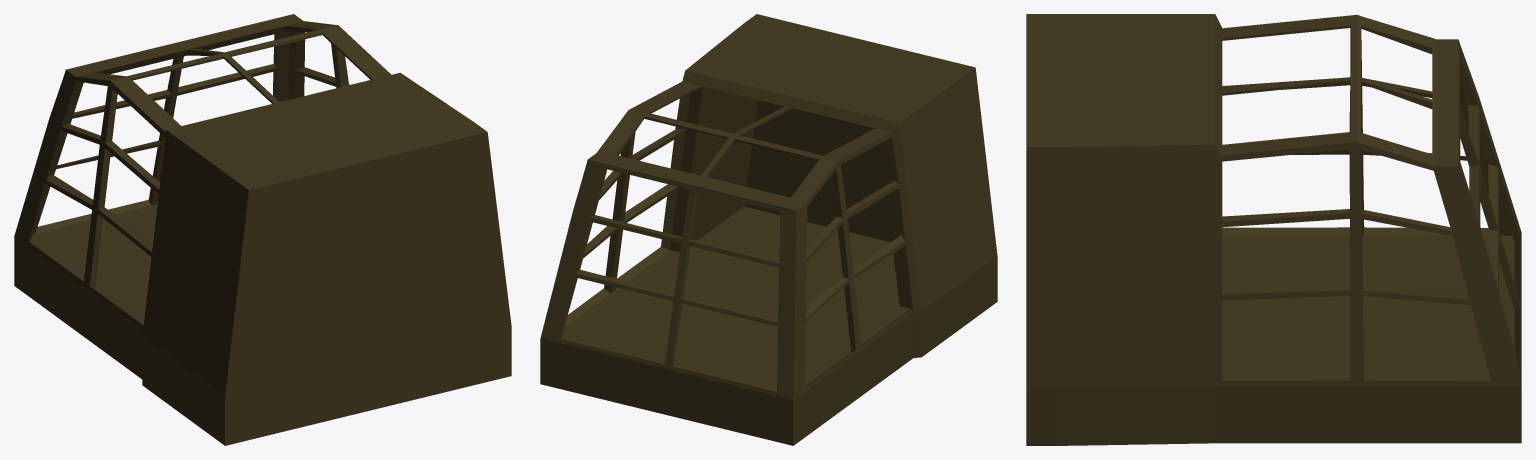
The model's file is crane.obj.
3 renders of one model, left to right at view 1: azimuth 30°, elevation 25°; view 2: azimuth 150°, elevation 25°; view 3: azimuth 270°, elevation 25°, orthographic. The views are drawn at different scales.
Parts seen in each view (by area): view 1: Chassis_Walls; view 2: Chassis_Walls; view 3: Chassis_Walls.
Boxes of the visible parts, x1,y1,x2,y2 form: Chassis_Walls: (14,14,511,445); Chassis_Walls: (540,14,997,445); Chassis_Walls: (1026,14,1521,445).
Size of the model in its own units: 6 by 5.04 by 7.86.
